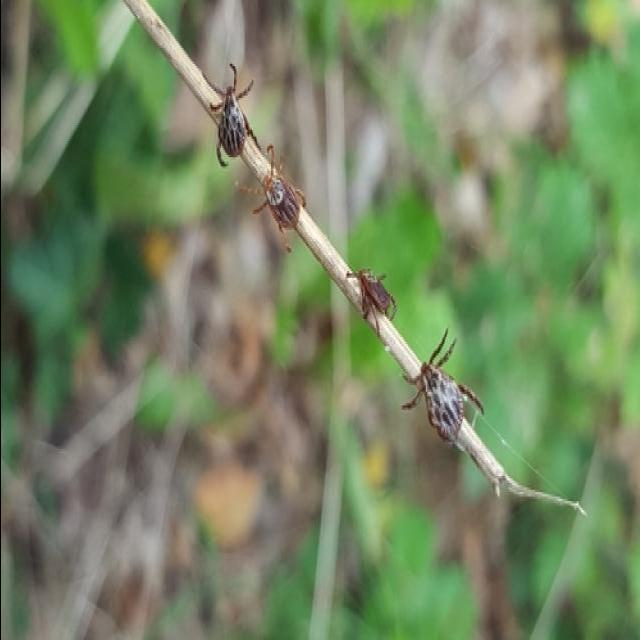Dermacentor Reticulatus-F: (236, 143, 300, 230)
Dermacentor Reticulatus-M: (398, 328, 481, 442), (195, 61, 273, 173)
